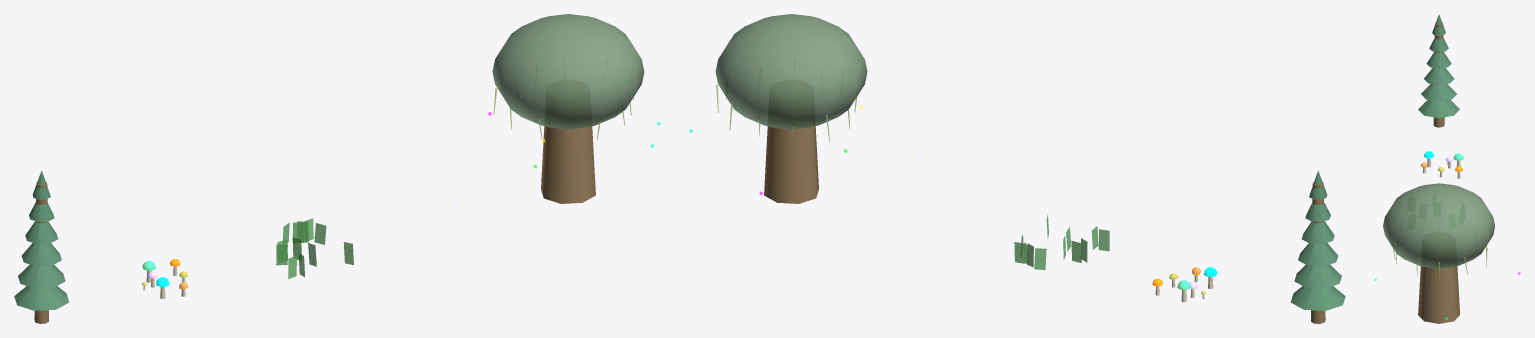
The model's file is scenery_forest_mobile.glb.
The picture shows the model from 3 angles, left to right: view 1: azimuth 30°, elevation 25°; view 2: azimuth 150°, elevation 25°; view 3: azimuth 270°, elevation 25°; orthographic projection. The views are drawn at different scales.
Visible parts, largest first — view 1: ancientOak_mesh (×2), tallPine_mesh (×4); view 2: ancientOak_mesh (×2), tallPine_mesh (×4); view 3: ancientOak_mesh (×2), tallPine_mesh (×7).
Boxes of the visible parts, x1=… form: ancientOak_mesh (×2): x1=492, y1=14, x2=644, y2=203; tallPine_mesh (×4): x1=14, y1=221, x2=69, y2=310; ancientOak_mesh (×2): x1=715, y1=14, x2=867, y2=203; tallPine_mesh (×4): x1=1290, y1=221, x2=1345, y2=310; ancientOak_mesh (×2): x1=1383, y1=183, x2=1494, y2=323; tallPine_mesh (×7): x1=1418, y1=14, x2=1459, y2=127.
Bounding box in the file's own units: 39.4 × 9.83 × 10.45.
